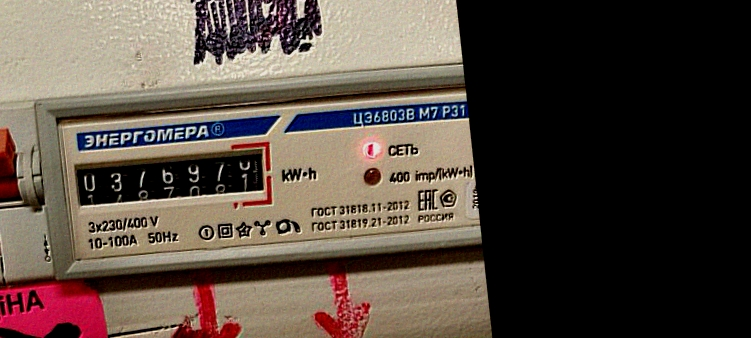0: (80, 170, 96, 193)
1: (238, 171, 251, 192)
3: (108, 171, 125, 193)
6: (159, 161, 176, 185)
7: (133, 165, 150, 190), (211, 158, 228, 183)
9: (185, 160, 201, 184)
screen: (64, 130, 280, 228)
